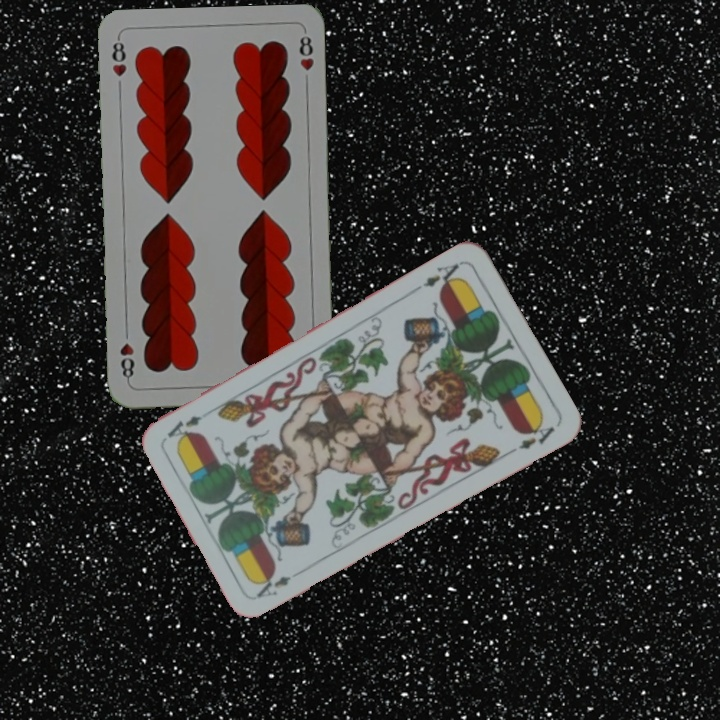EA: (410, 258, 464, 294), (252, 572, 294, 601)
H8: (108, 34, 129, 79)
